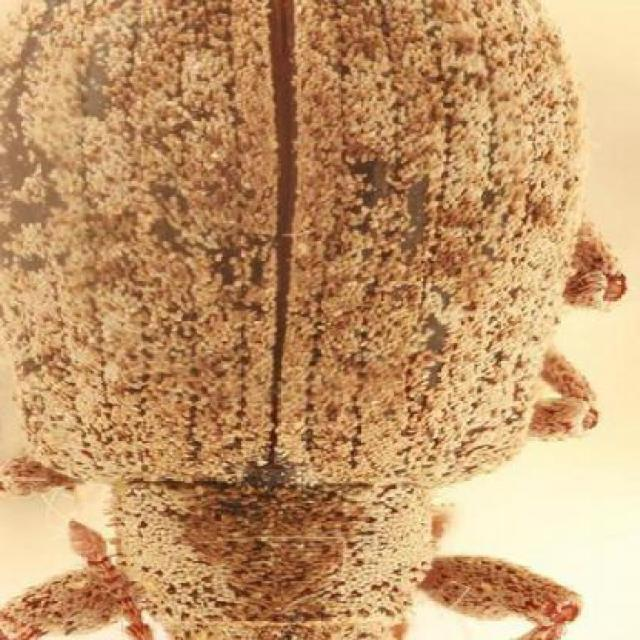rice-bug: (4, 0, 578, 640)
